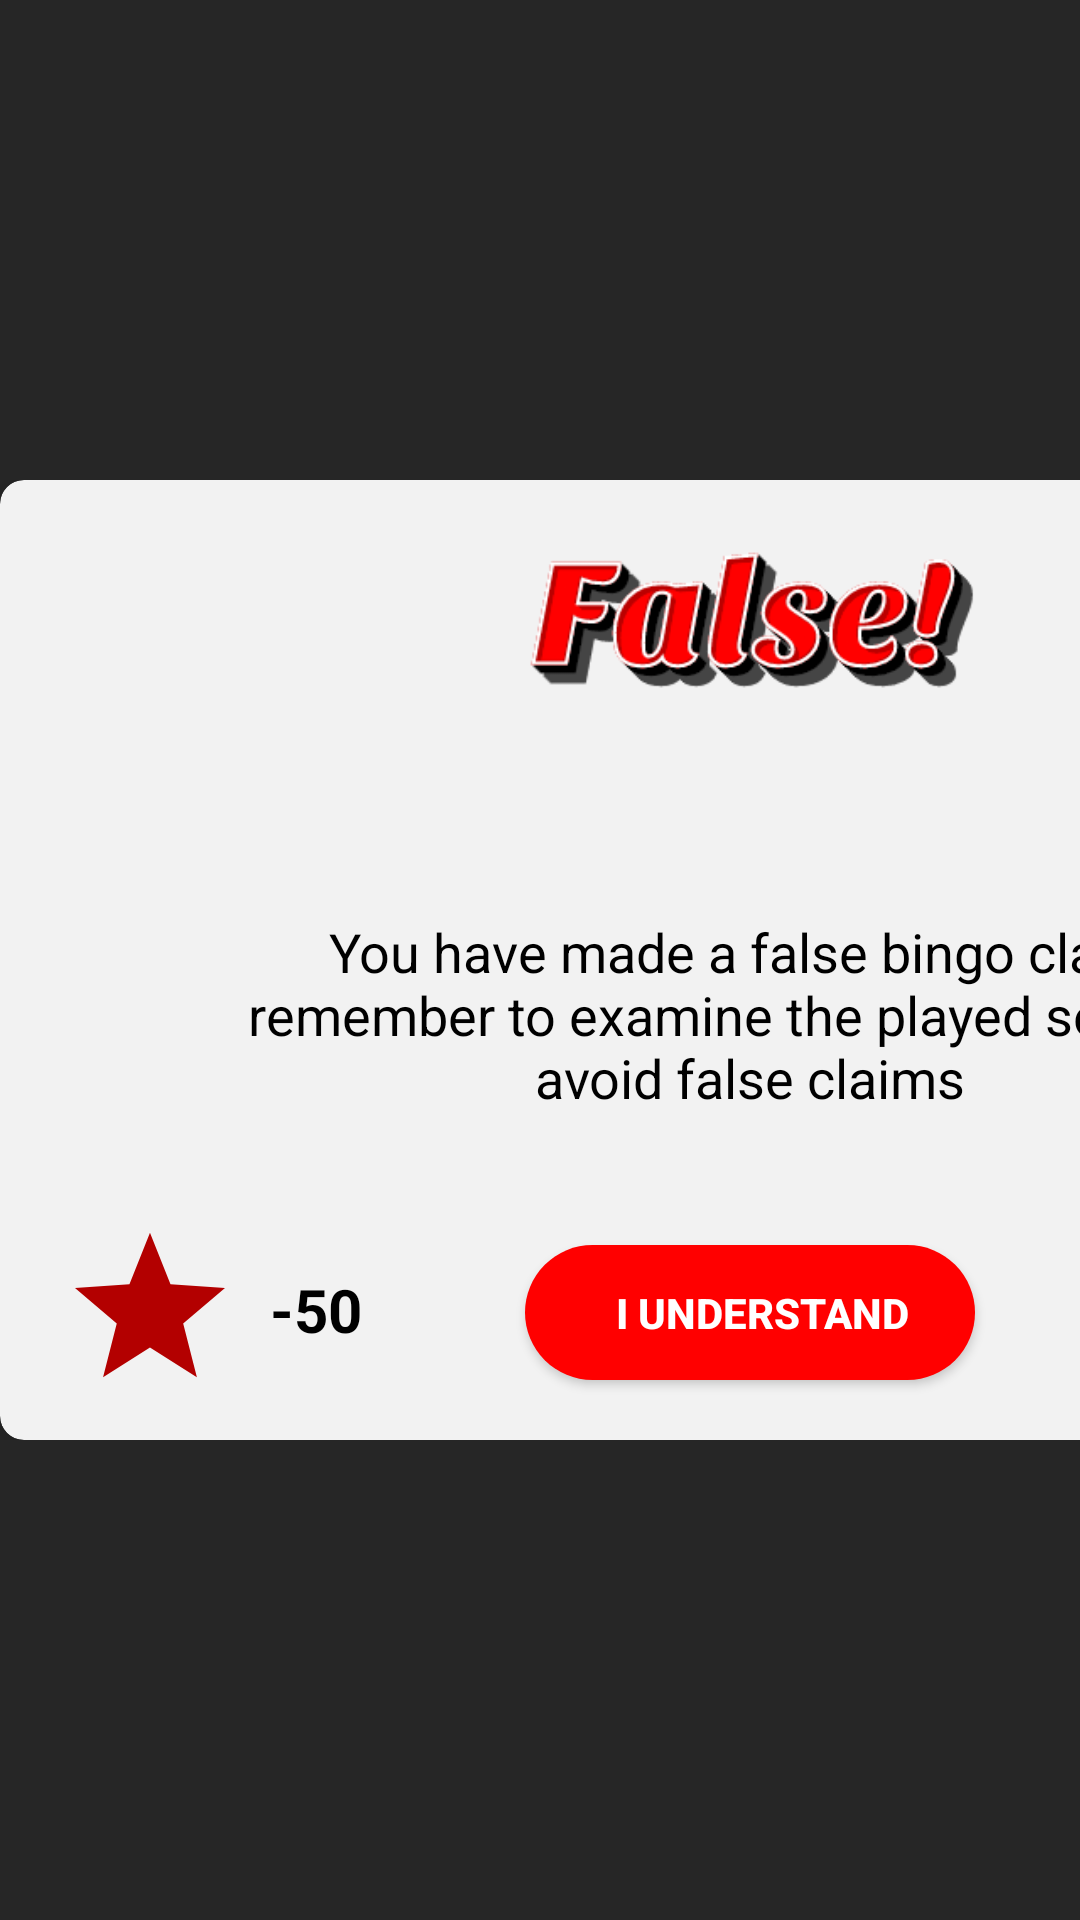

Where icons sit on this 1080×1920 app screen, as (x1=x1, y1=y1, x2=x2, y2=y2):
redstar: (x1=75, y1=1233, x2=225, y2=1377)
